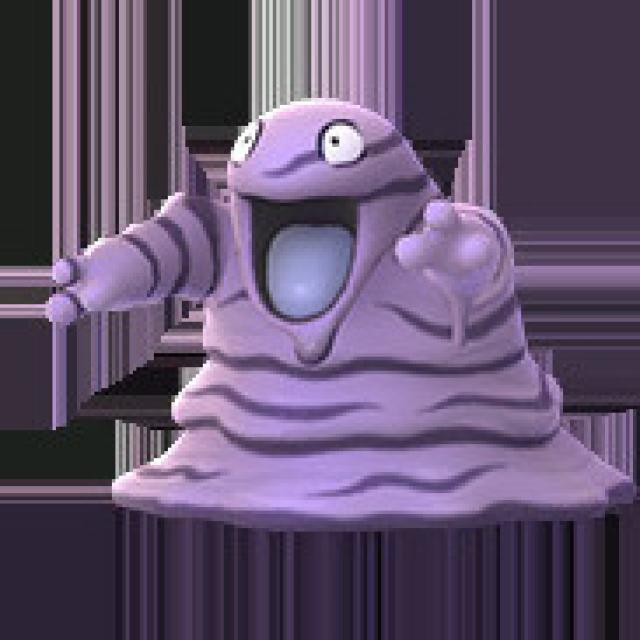Grimer: (28, 94, 640, 536)
